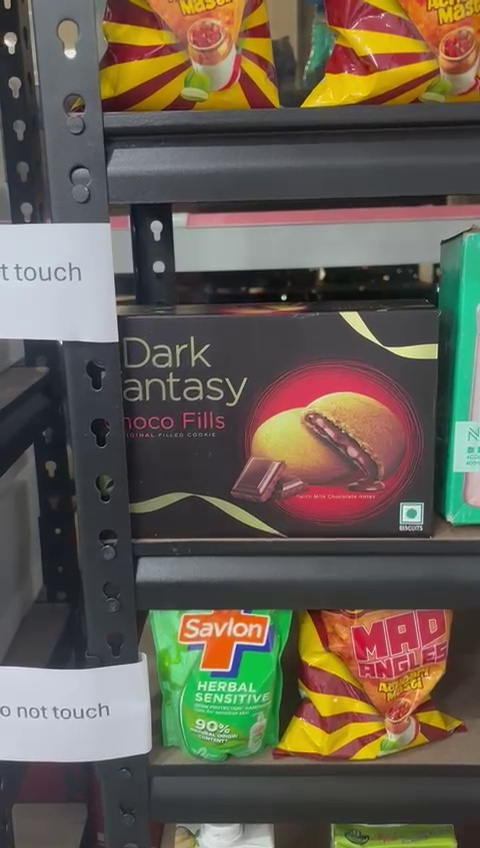Bingo Mad Angles: (295, 611, 459, 758)
Dark Fantasy: (114, 303, 440, 536)
Savlon Herbal: (154, 609, 283, 756)
